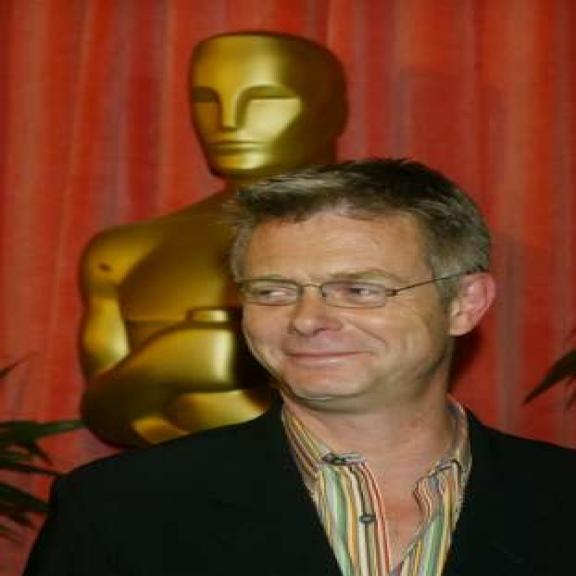face: (246, 207, 502, 409)
